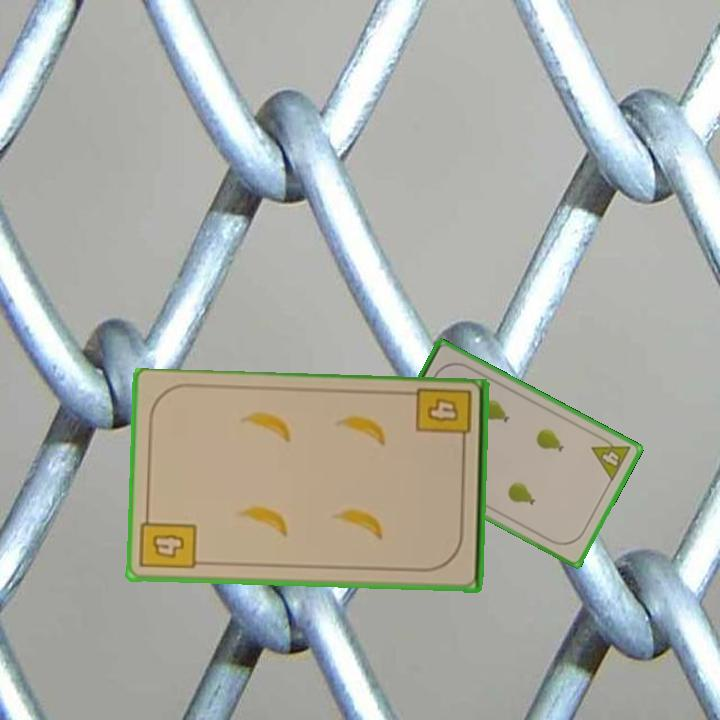4b: (413, 385, 475, 452), (137, 509, 199, 572)
4p: (588, 431, 633, 484)
